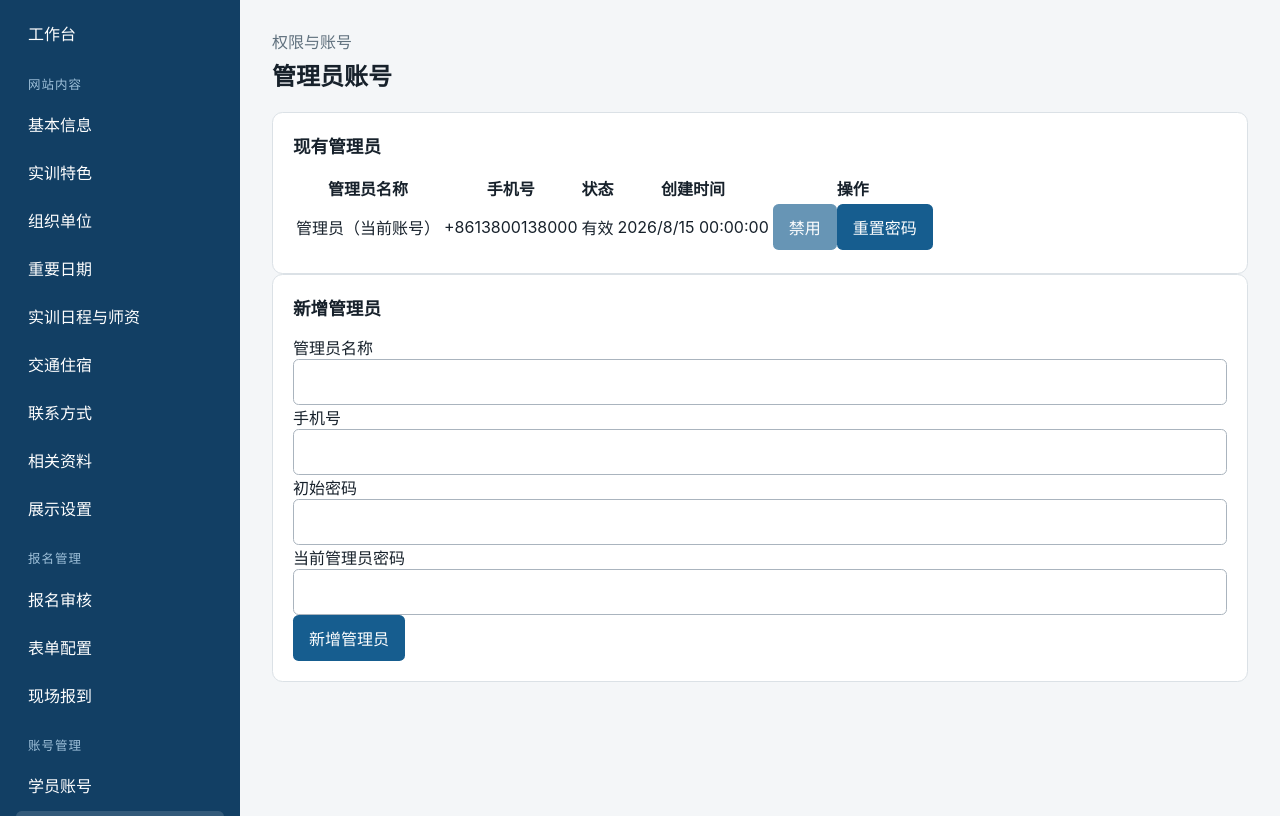
administrator route guard › returns to login immediately after resetting the current administrator password
Check: the text "管理员（当前账号）" is shown, box [295,203,441,251]
Click the button "重置密码": (885, 227) [837,204,933,250]
(page scrolled)
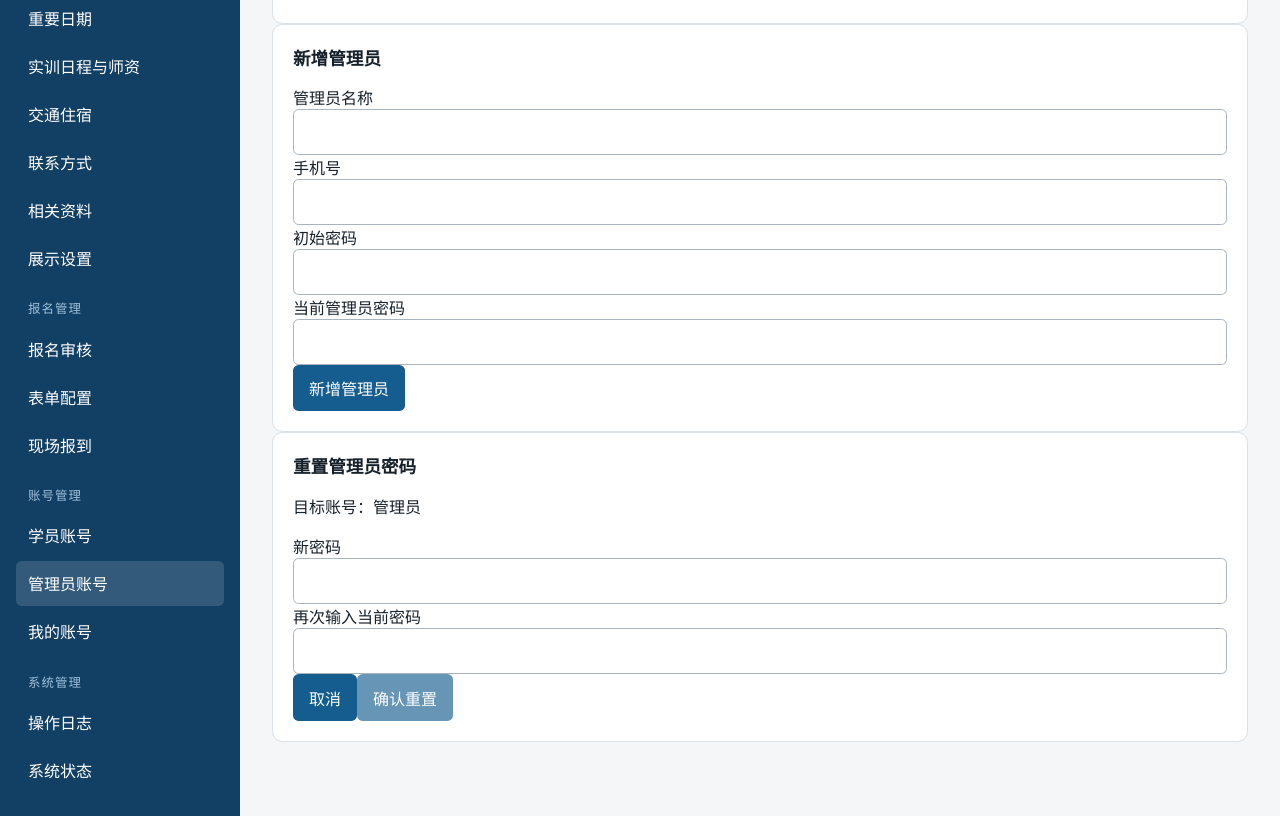
In the password field labelled "新密码": (760, 581) [293,558,1227,604], type "Replacement!2026"
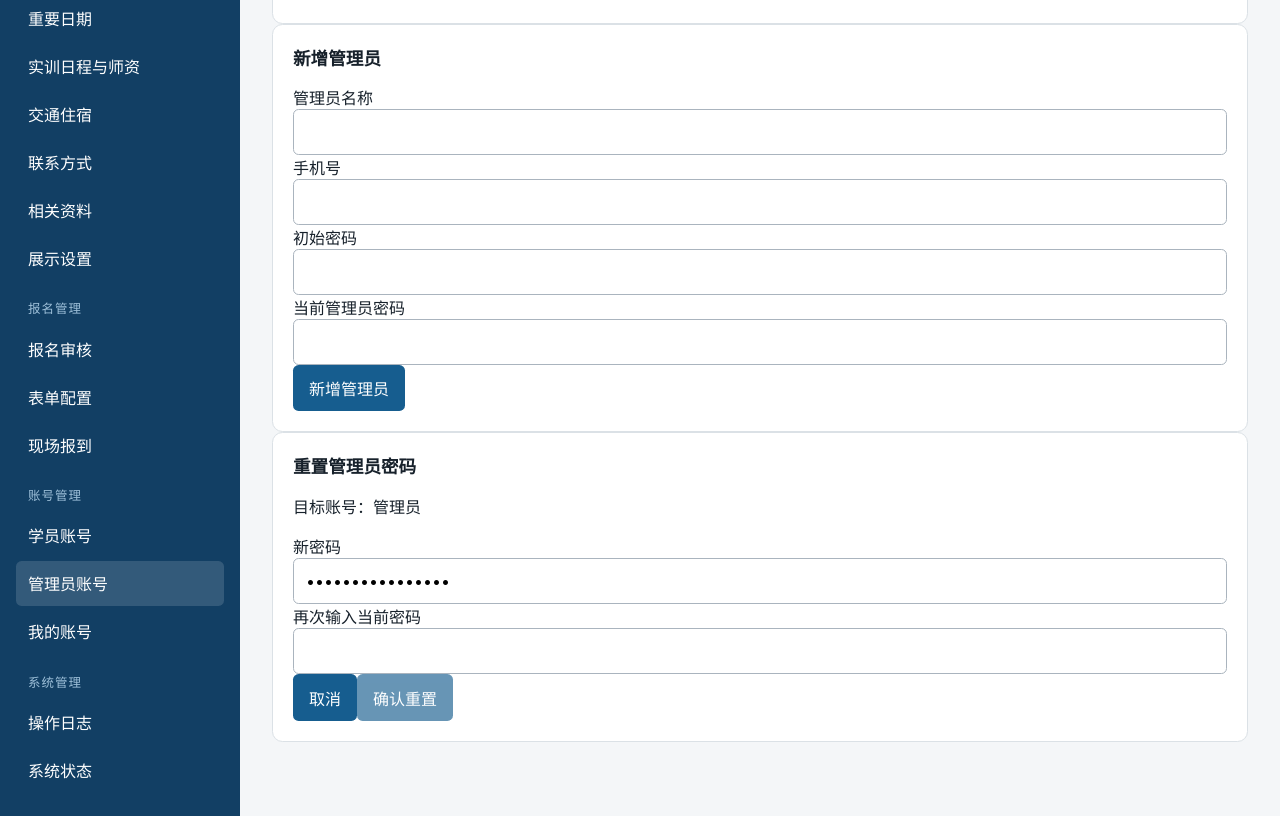
In the password field labelled "再次输入当前密码": (760, 651) [293,628,1227,674], type "Current!2026"
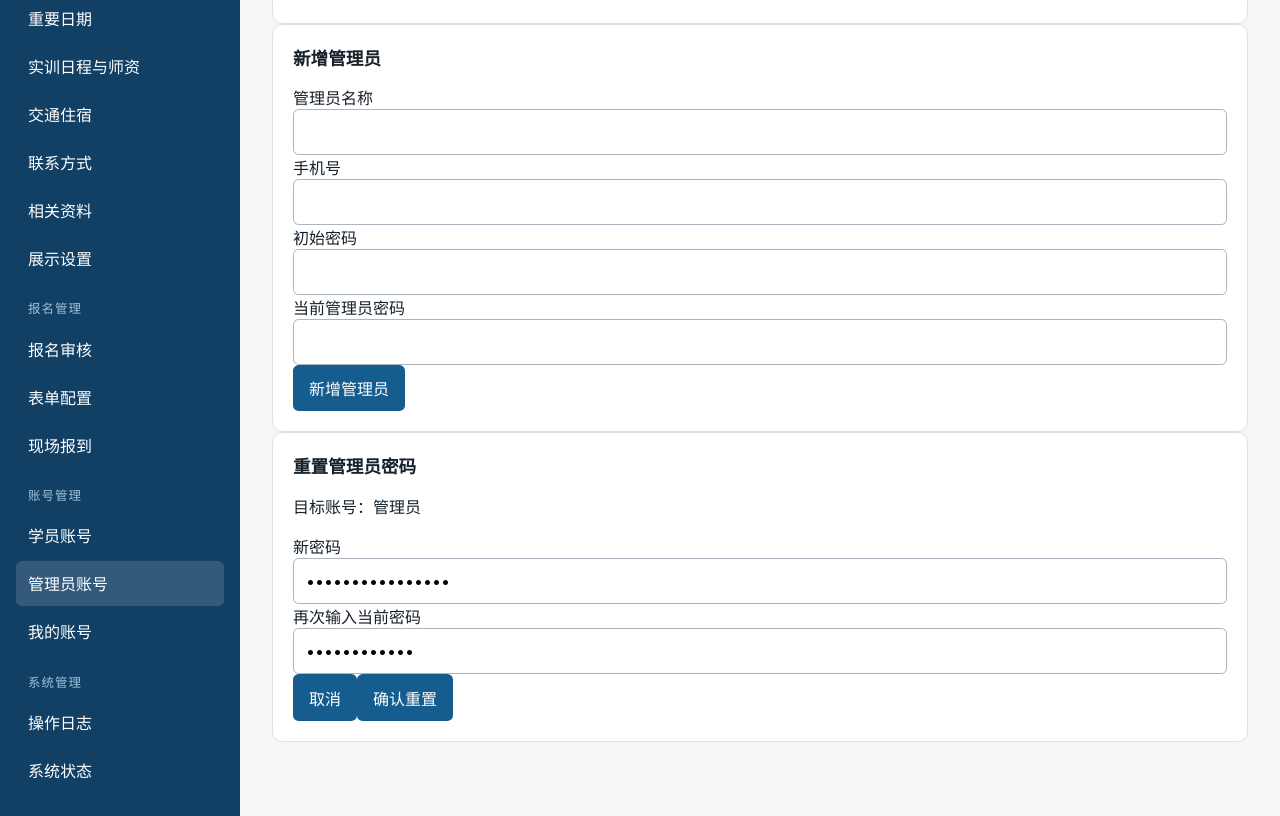
Click the button "确认重置": (405, 698) [357,674,453,721]
(page scrolled)
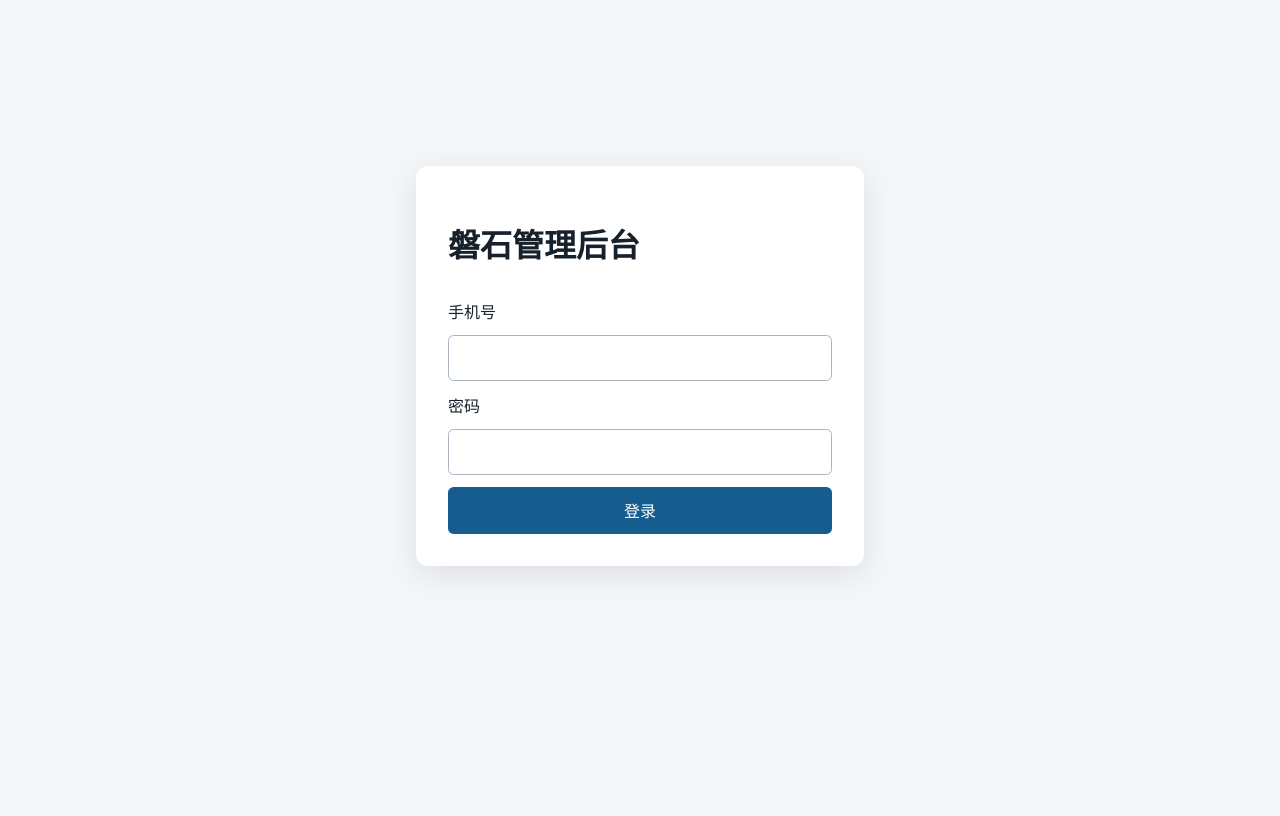
Check: the field labelled "手机号" is shown, box [448,335,832,381]
